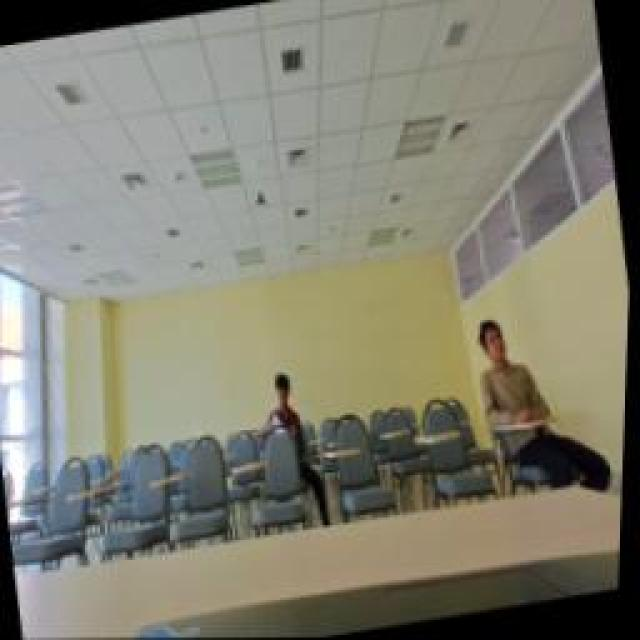study: (470, 313, 560, 435), (258, 370, 308, 440)
